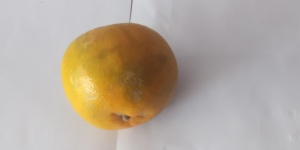BAD: (61, 21, 179, 131)
